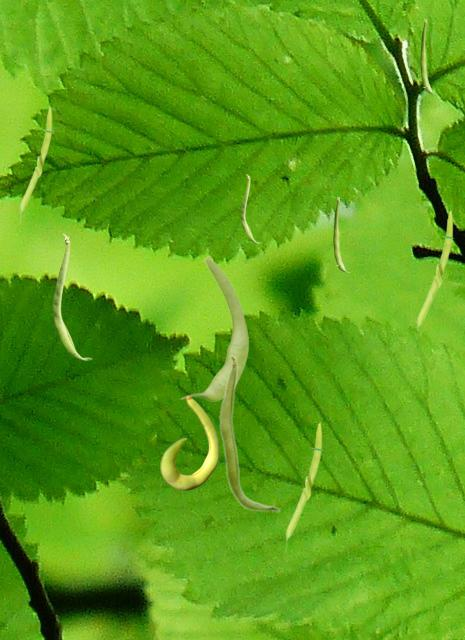french_bean: (180, 255, 248, 400), (218, 354, 280, 512), (160, 395, 218, 489), (415, 208, 453, 340), (284, 420, 322, 552), (53, 233, 91, 359), (18, 105, 52, 224), (241, 174, 261, 242), (420, 19, 436, 93), (333, 197, 349, 271)
